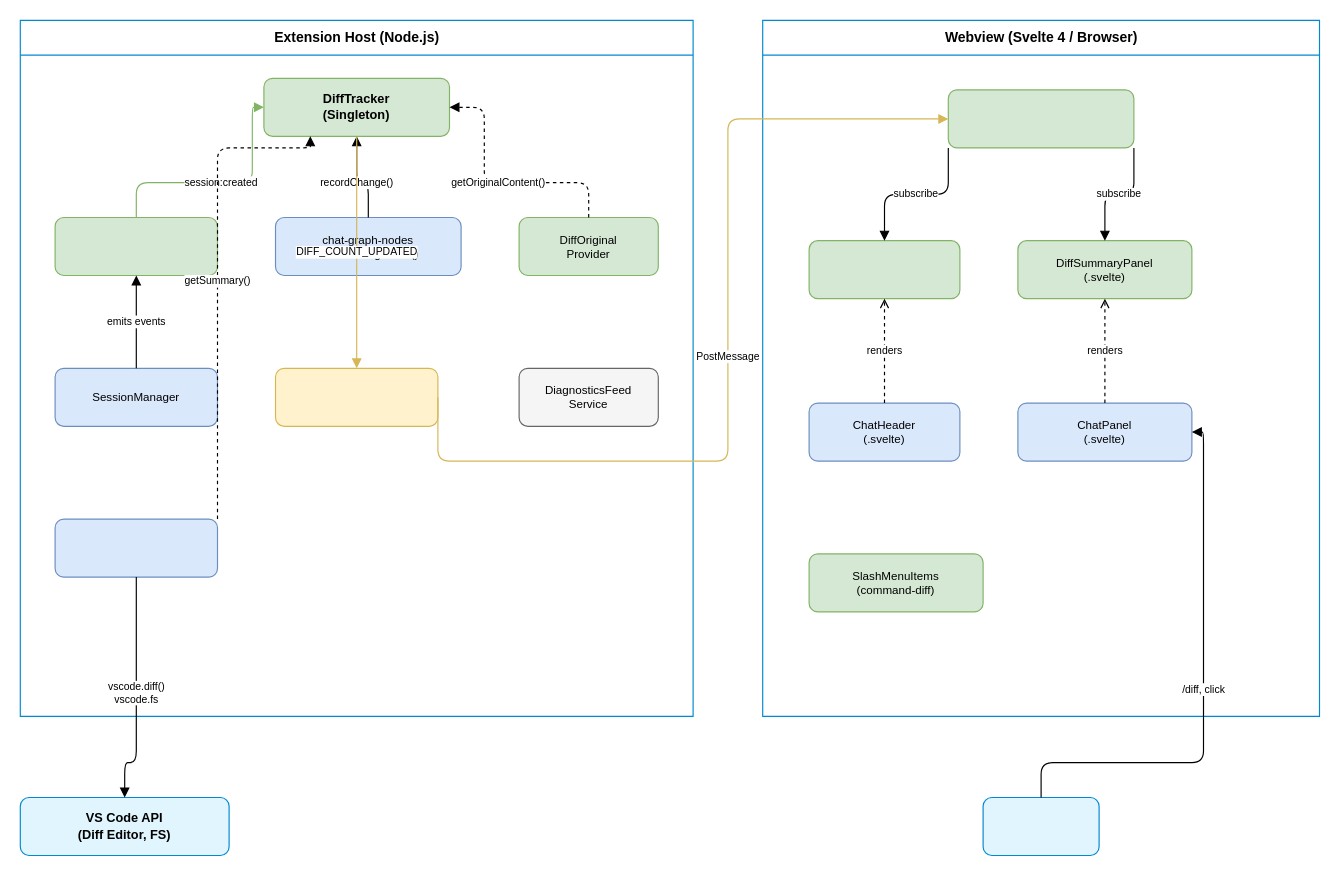
This 1340x876 diagram has some shape labels left out. The centre of each missing label's shape, as x and y in pixels:
"ChangeBadge (.svelte)" goes at point 884,269.
"ChatEngine Adapter" goes at point 135,547.
"Developer (User)" goes at point 1040,825.
"diffTrackerStore (Svelte writable)" goes at point 1040,118.
"PostMessage Bridge" goes at point 356,396.
"SessionLifecycle Emitter" goes at point 135,246.
